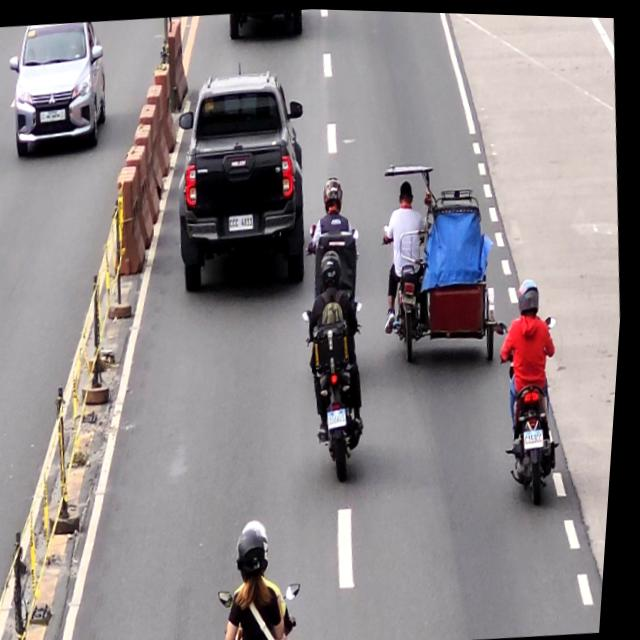Car: (163, 67, 322, 294)
License-Plate: (230, 213, 257, 231), (529, 424, 550, 447), (331, 405, 353, 425)
Motorcycle: (490, 308, 576, 508), (298, 301, 382, 483)
Tricycle: (372, 150, 513, 368)
